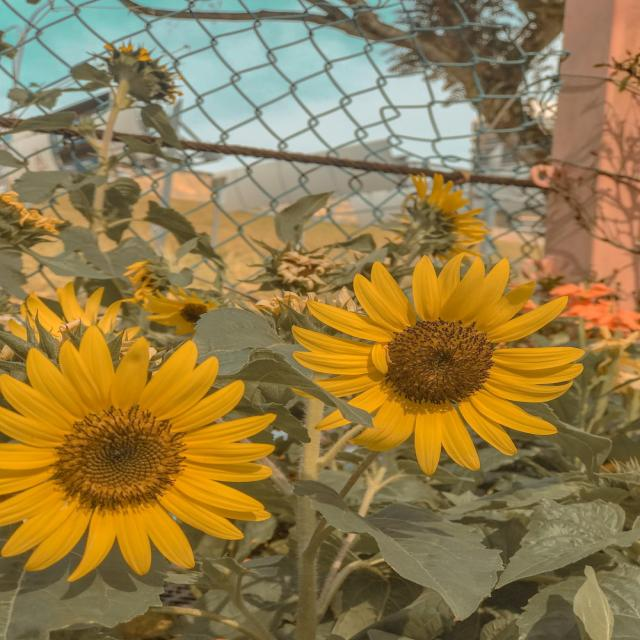sunflower: (0, 318, 282, 590), (284, 248, 588, 481), (0, 272, 169, 391), (392, 163, 507, 270), (94, 32, 198, 119), (137, 278, 244, 343), (576, 316, 640, 417), (0, 180, 72, 248), (262, 237, 343, 296), (231, 278, 325, 322), (123, 256, 174, 308)
